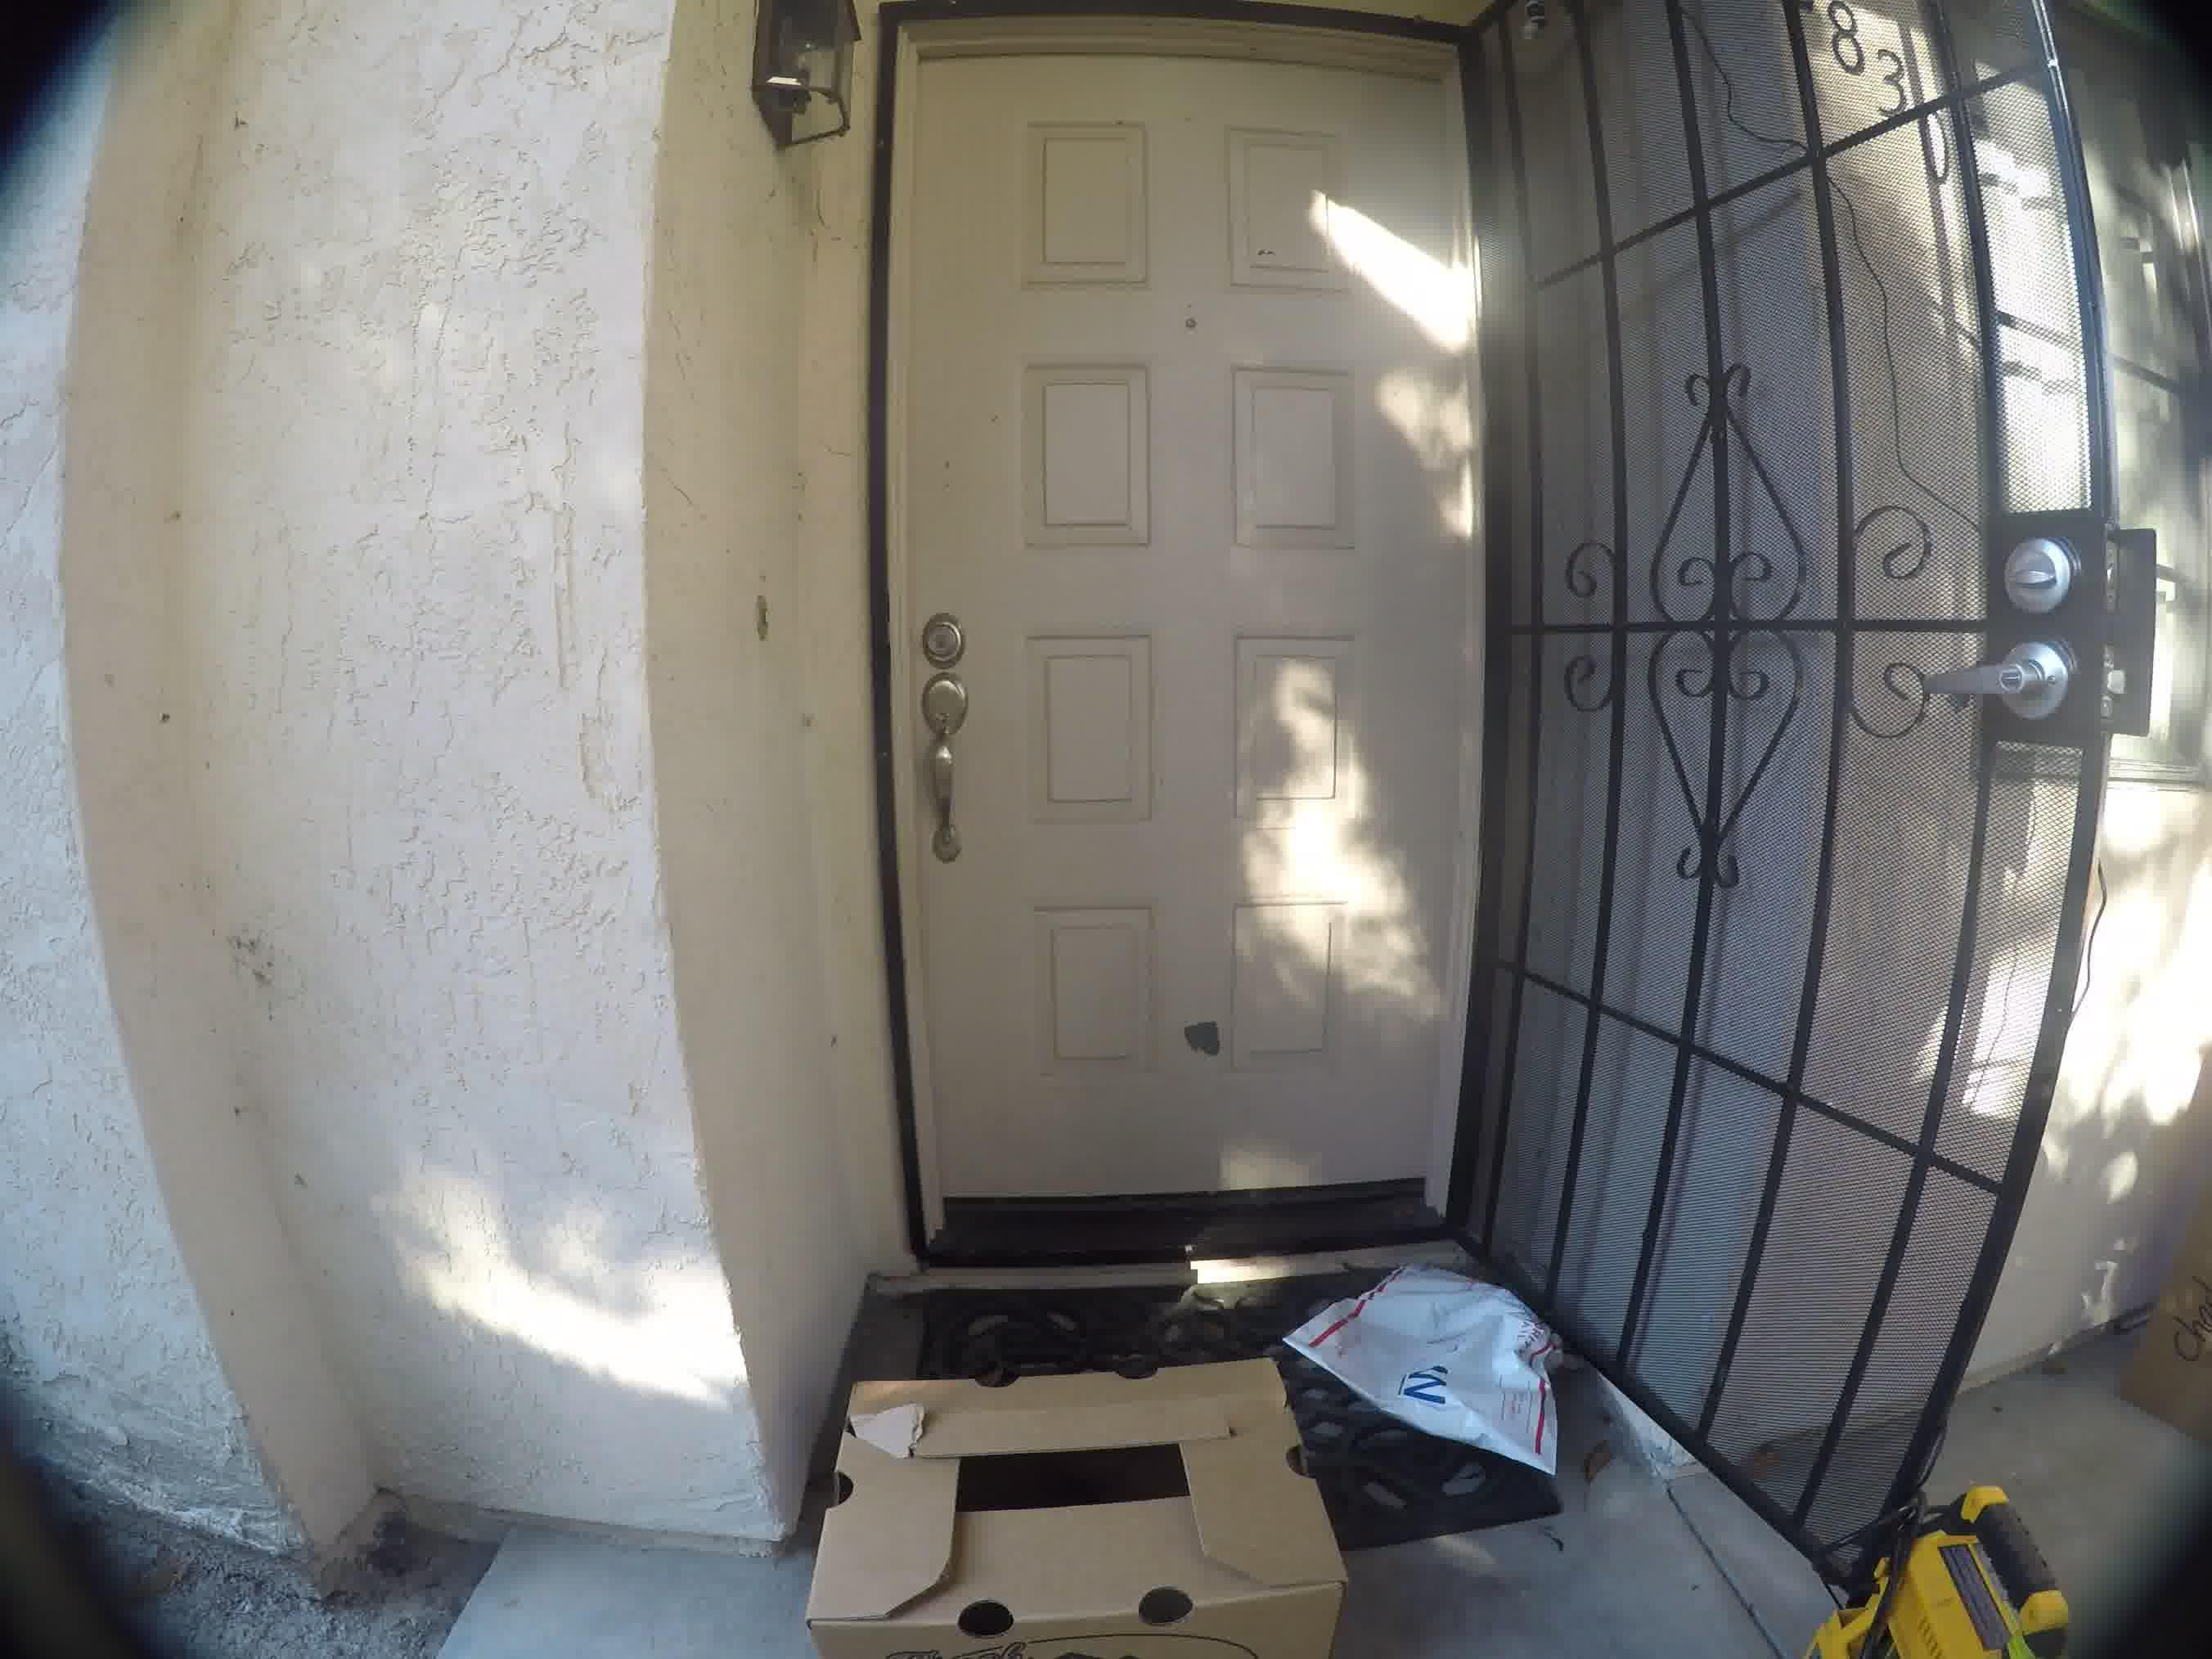box: (827, 1340, 1331, 1659)
plastic_bag: (1336, 1256, 1583, 1500)
